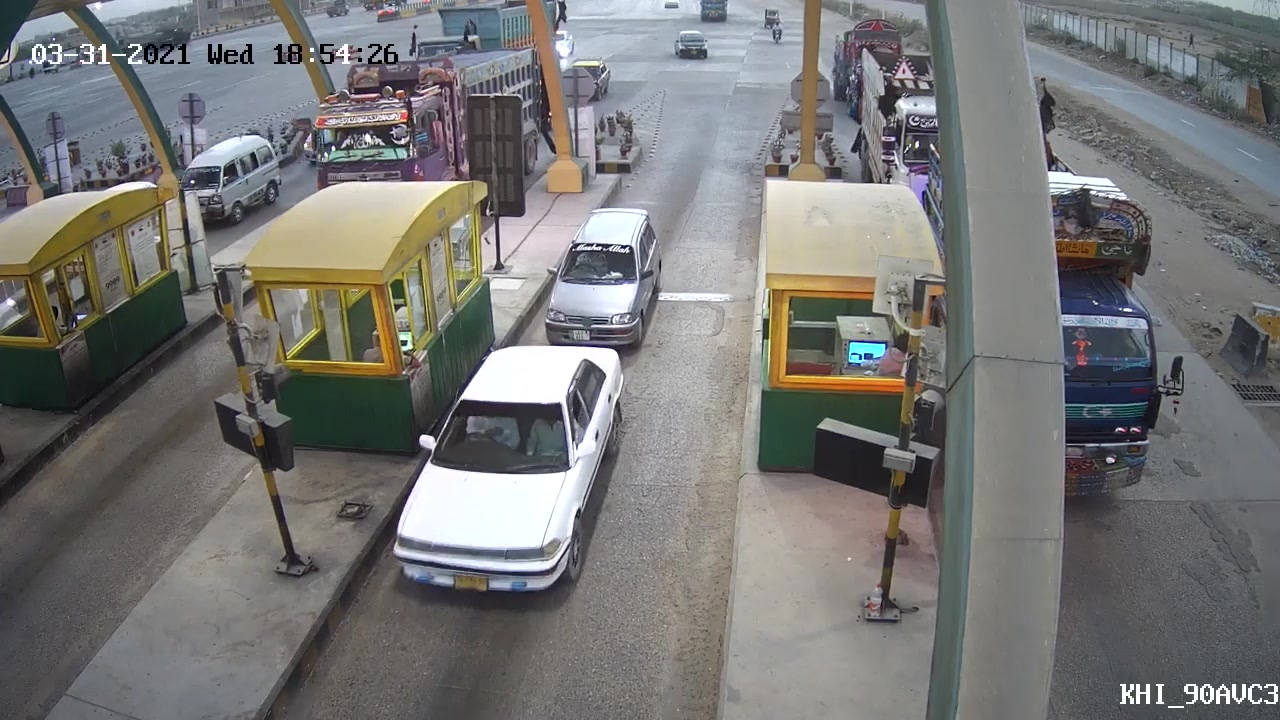F1: (382, 344, 629, 601)
